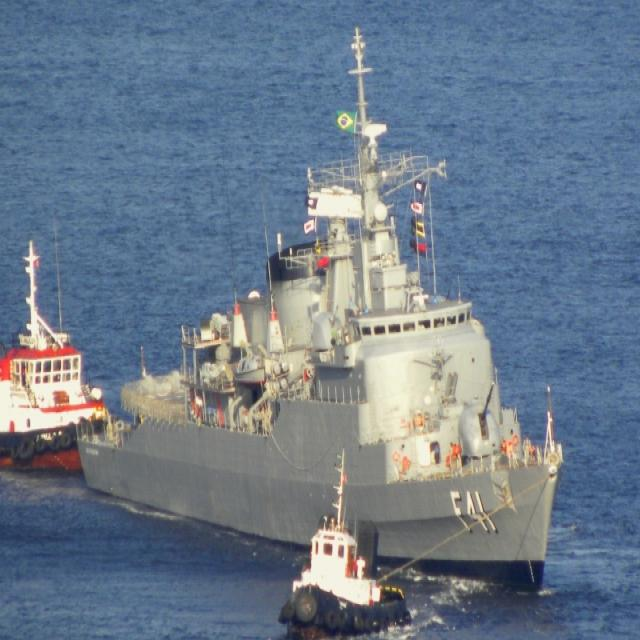Fragata: (68, 4, 580, 598)
